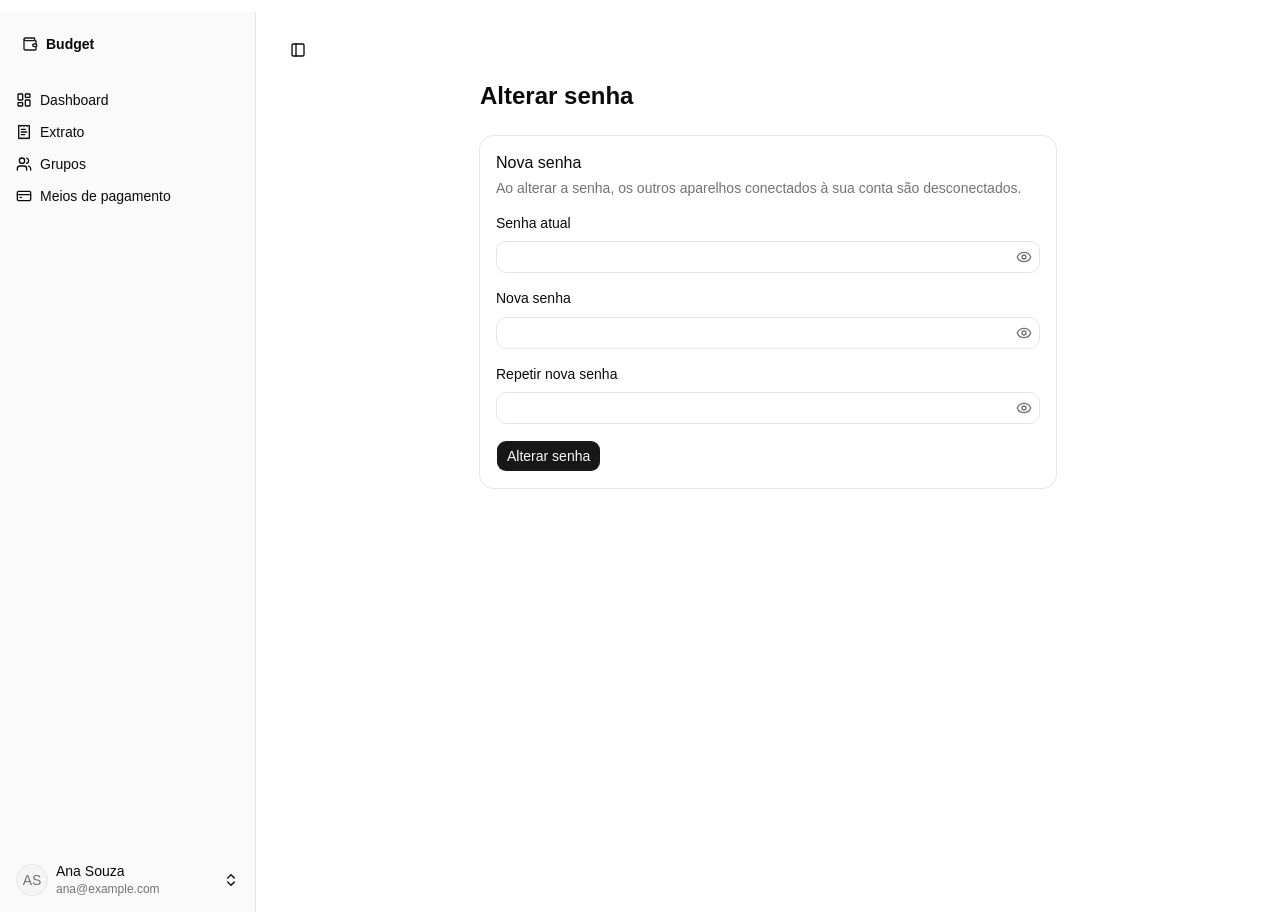
Test: Alterar senha route (/settings/password) › changes the password and clears the fields
Expected: the heading "Alterar senha" is shown, [480,82,633,109]
Type "segredo123" into the password field labelled "Senha atual" at (768, 257), box [496,241,1040,273]
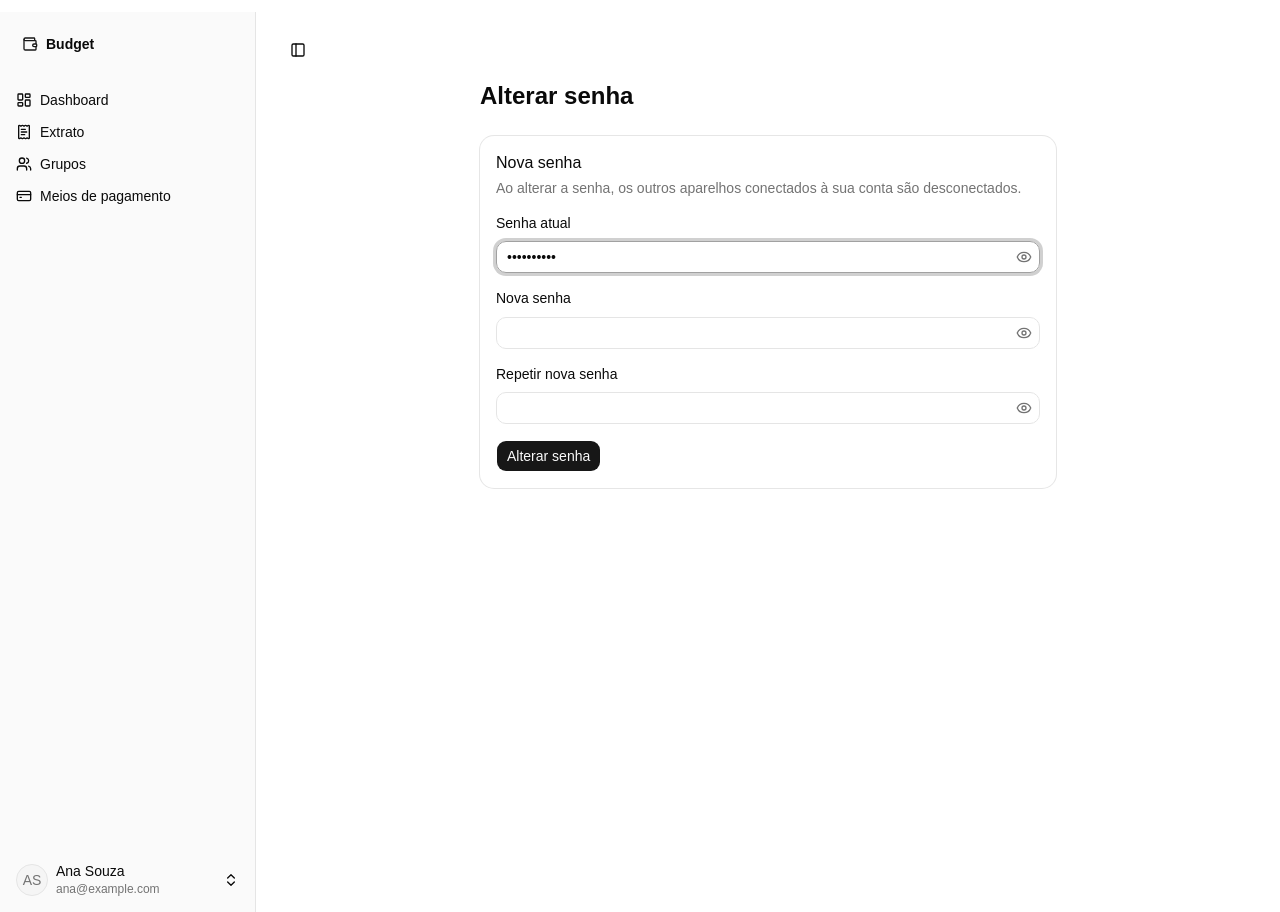
Type "novaSenha456" into the password field labelled "Nova senha" at (768, 332), box [496,316,1040,348]
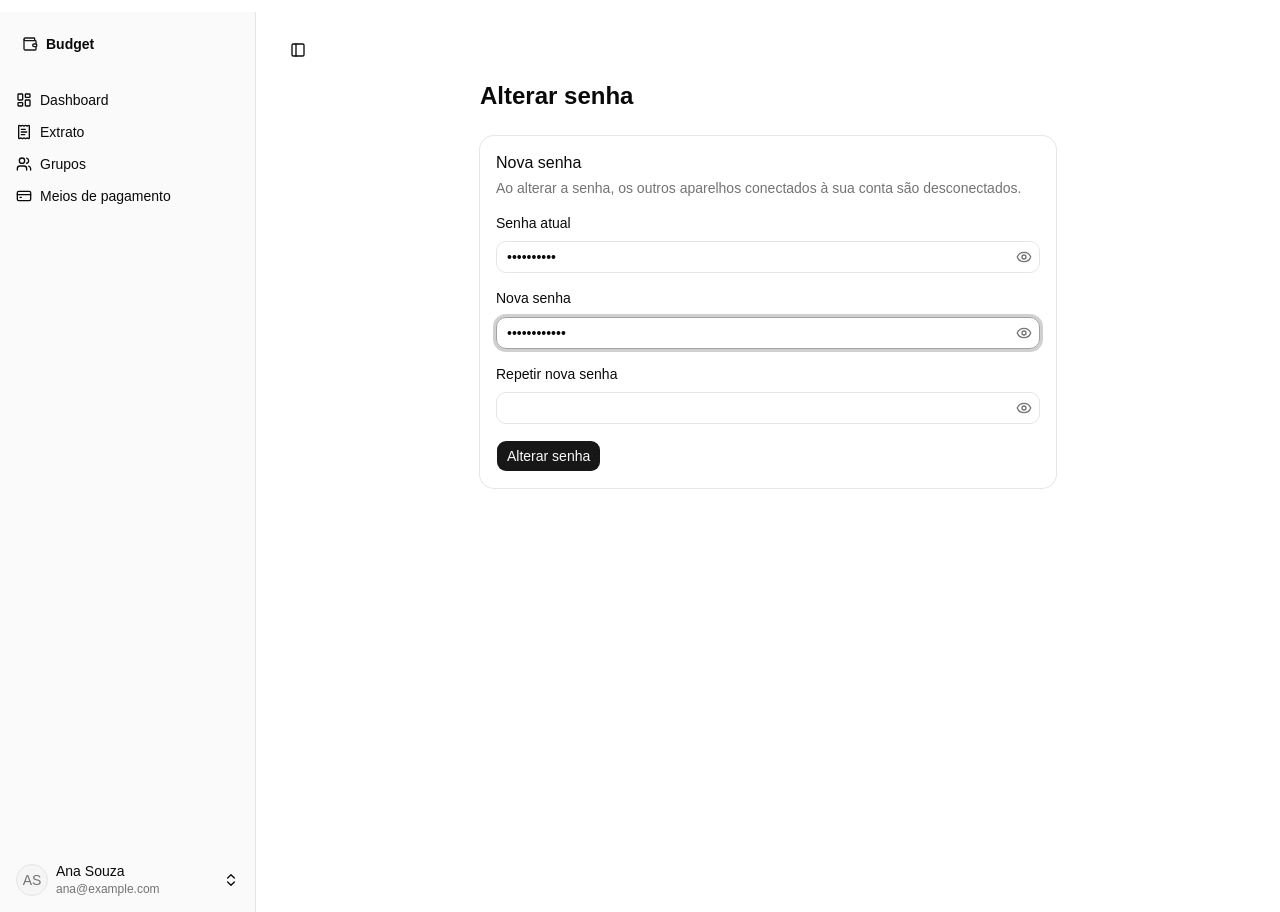
Type "novaSenha456" into the password field labelled "Repetir nova senha" at (768, 408), box [496,392,1040,424]
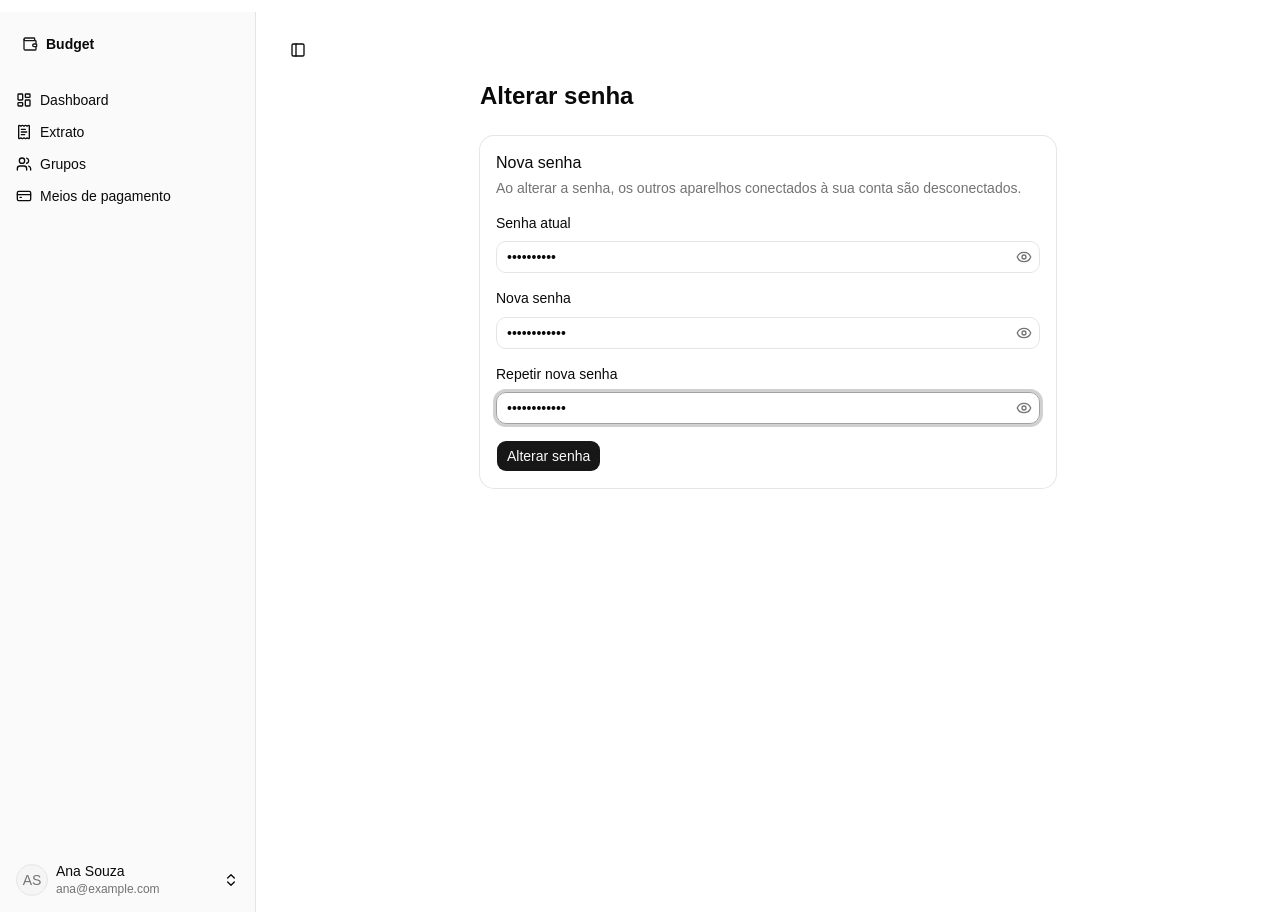
Click the button "Alterar senha" at (549, 456), box [496,440,601,472]
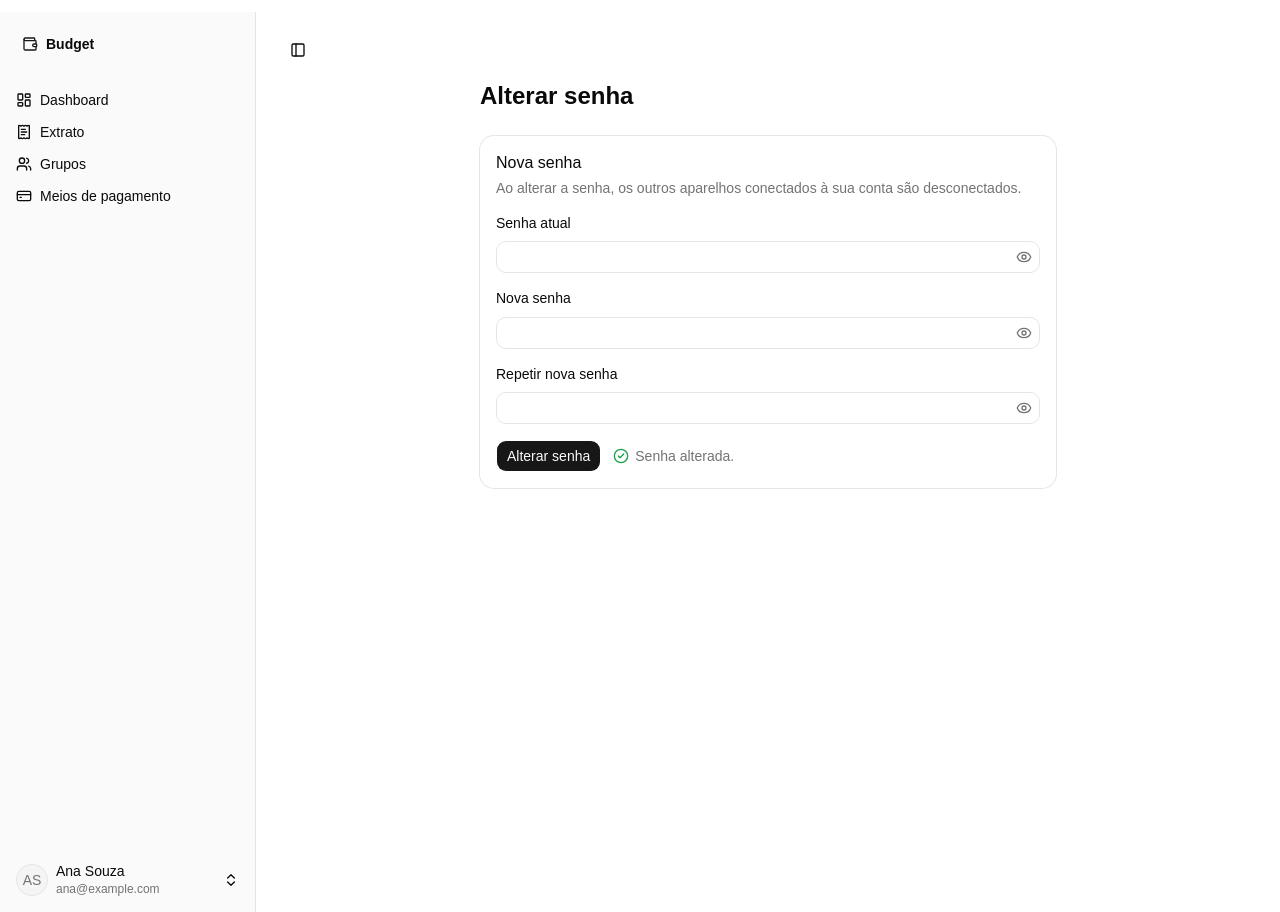
Expected: the message reads "Senha alterada.", [635,448,734,464]
Expected: the password field labelled "Senha atual" is empty, [496,241,1040,273]
Expected: the password field labelled "Nova senha" is empty, [496,316,1040,348]
